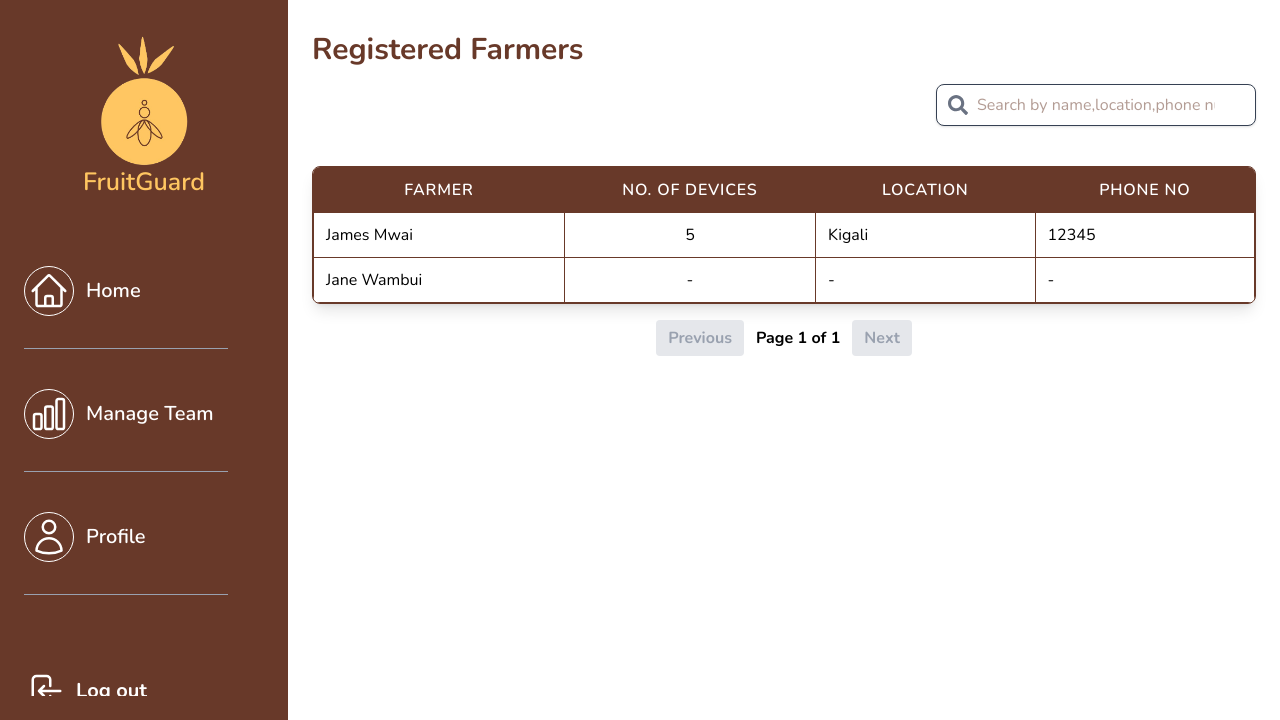
Test case: Team component › filters farmers by search input
Type "james" into the field with placeholder "Search by name,location,phone number" at (1096, 105), box [936,84,1256,126]
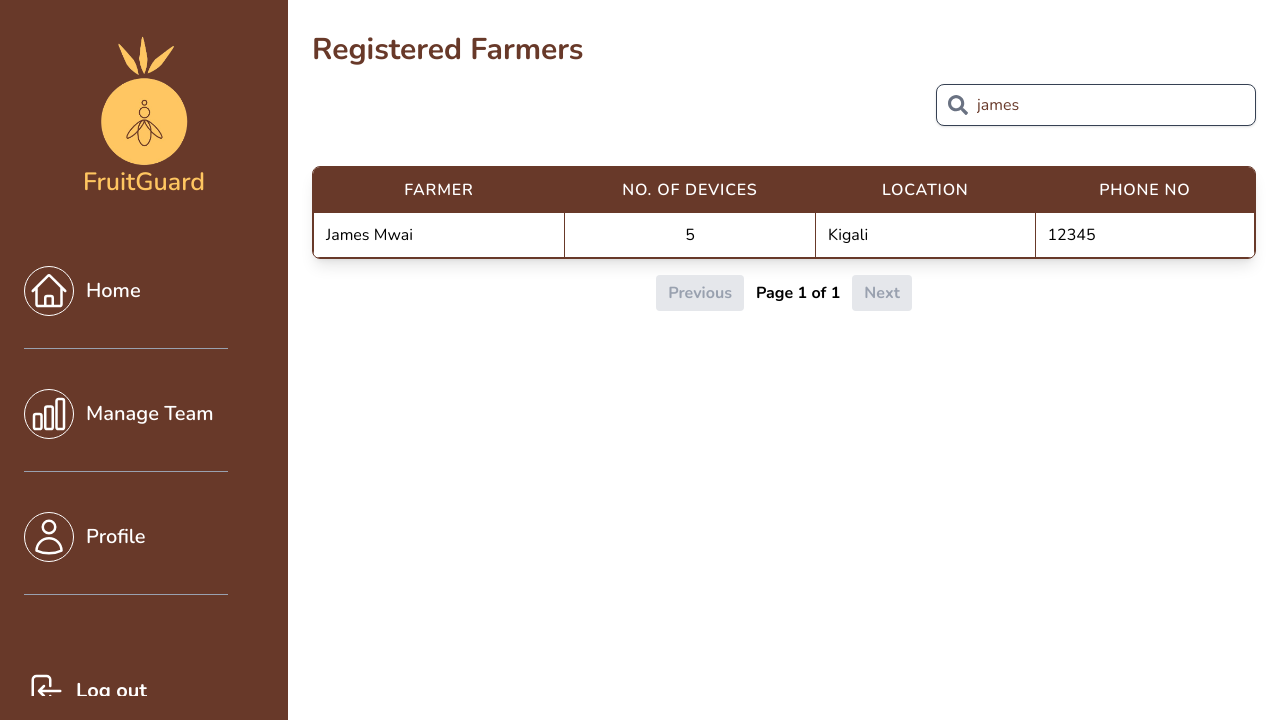
Expected: the text "James Mwai" is shown, [314,212,564,258]
Result: the text "Jane Wambui" is gone
